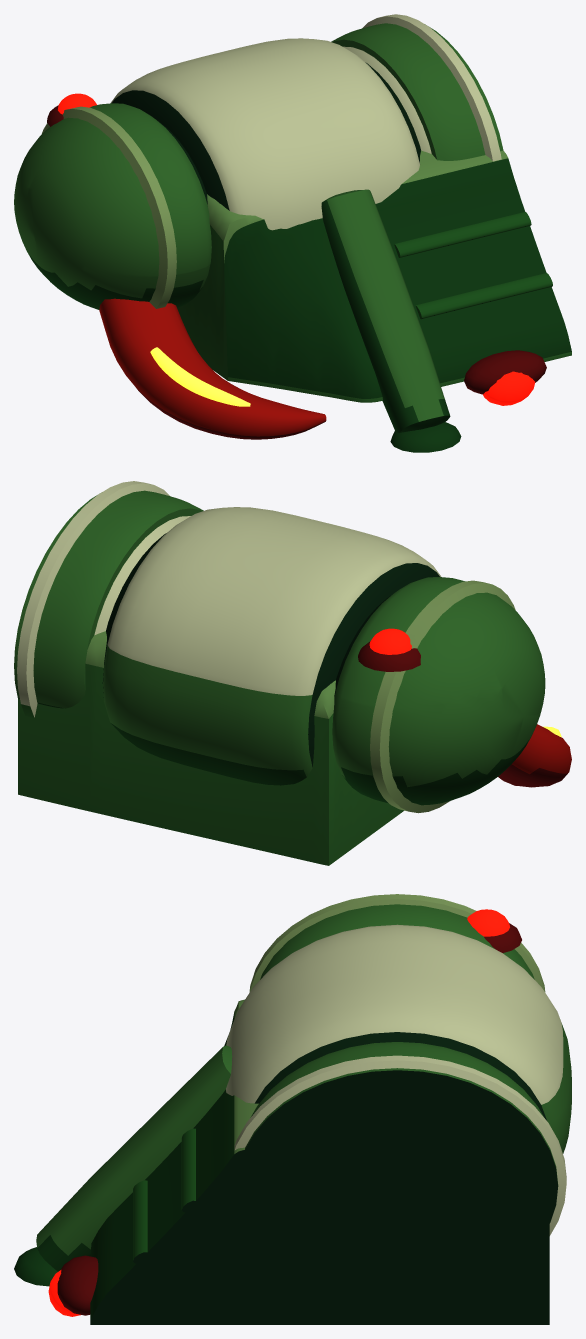
Rendered from green_skiff_rear.glb.
3 views of the same model, one above another, from view 1: azimuth 30°, elevation 25°; view 2: azimuth 150°, elevation 25°; view 3: azimuth 270°, elevation 25° (orthographic). The views are drawn at different scales.
Parts seen in each view (by area): view 1: pod.001, bow.001, strut.001, claw-1.001, collar.001, cap_rib-1.001, collar_ring0.001, slat1.001, slat0.001, lamp_seat.001, strut_foot.001, slit-1.001 (+1 smaller); view 2: pod.001, bow.001, collar.001, cap_rib-1.001, collar_ring0.001, claw-1.001, lamp_seat-1.001, lamp-1.001; view 3: bow.001, collar.001, pod.001, strut.001, collar_ring0.001, cap_rib-1.001, lamp_seat.001, slat0.001, slat1.001, strut_foot.001, lamp-1.001, lamp_seat-1.001.
Boxes of the visible parts, x1=… form: pod.001: x1=14, y1=38, x2=431, y2=309; bow.001: x1=177, y1=150, x2=571, y2=402; strut.001: x1=321, y1=189, x2=450, y2=433; claw-1.001: x1=99, y1=298, x2=326, y2=439; collar.001: x1=331, y1=23, x2=503, y2=160; cap_rib-1.001: x1=42, y1=106, x2=176, y2=308; collar_ring0.001: x1=362, y1=14, x2=501, y2=161; slat1.001: x1=415, y1=273, x2=552, y2=319; slat0.001: x1=394, y1=212, x2=531, y2=257; lamp_seat.001: x1=464, y1=350, x2=546, y2=394; strut_foot.001: x1=390, y1=422, x2=461, y2=452; slit-1.001: x1=150, y1=347, x2=250, y2=406; pod.001: x1=94, y1=507, x2=545, y2=805; bow.001: x1=18, y1=631, x2=403, y2=865; collar.001: x1=14, y1=490, x2=203, y2=708; cap_rib-1.001: x1=370, y1=580, x2=515, y2=813; collar_ring0.001: x1=17, y1=481, x2=169, y2=717; claw-1.001: x1=498, y1=724, x2=571, y2=787; lamp_seat-1.001: x1=358, y1=641, x2=420, y2=671; lamp-1.001: x1=369, y1=628, x2=411, y2=654; bow.001: x1=90, y1=999, x2=549, y2=1324; collar.001: x1=236, y1=1042, x2=558, y2=1303; pod.001: x1=226, y1=904, x2=571, y2=1153; strut.001: x1=36, y1=1045, x2=232, y2=1271; collar_ring0.001: x1=234, y1=1055, x2=566, y2=1235; cap_rib-1.001: x1=249, y1=894, x2=545, y2=991; lamp_seat.001: x1=57, y1=1255, x2=98, y2=1315; slat0.001: x1=181, y1=1128, x2=198, y2=1212; slat1.001: x1=133, y1=1180, x2=149, y2=1264; strut_foot.001: x1=14, y1=1247, x2=57, y2=1286; lamp-1.001: x1=467, y1=909, x2=509, y2=936; lamp_seat-1.001: x1=484, y1=923, x2=521, y2=952.
Bounding box in the file's own units: 22.1 × 13.86 × 23.43.
